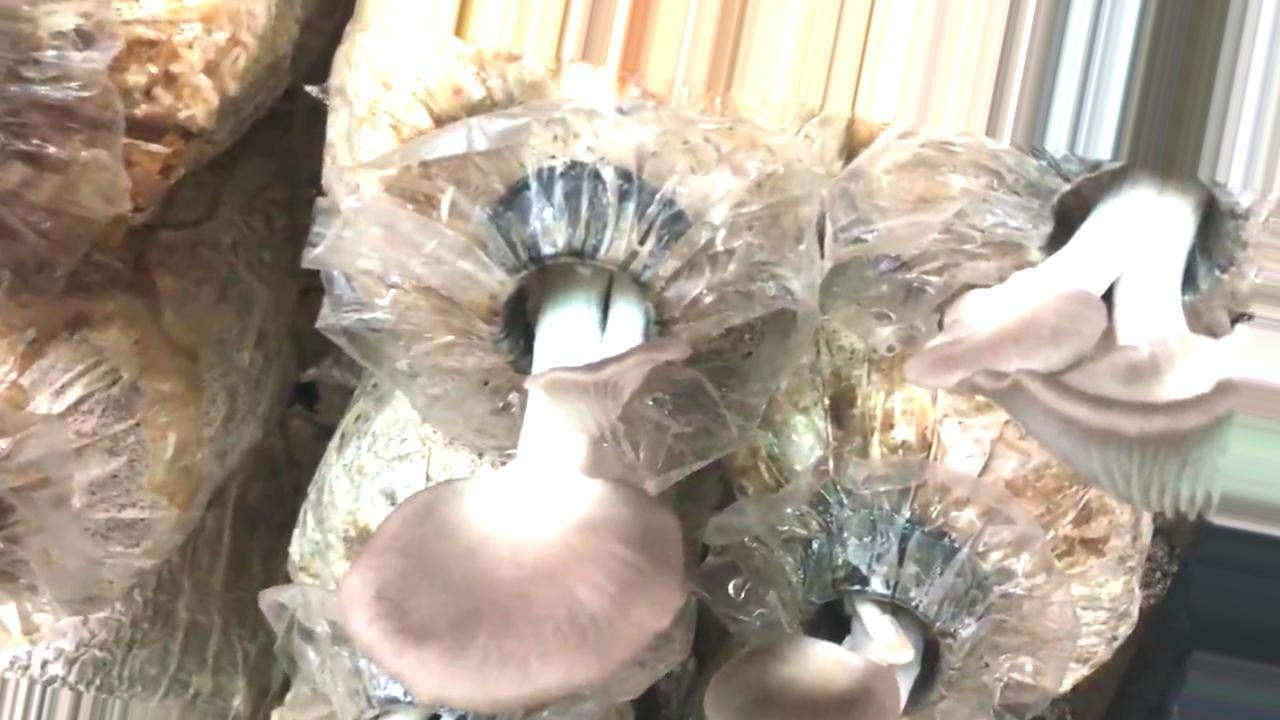nam: (342, 205, 698, 709), (902, 155, 1277, 520), (706, 549, 960, 720)
